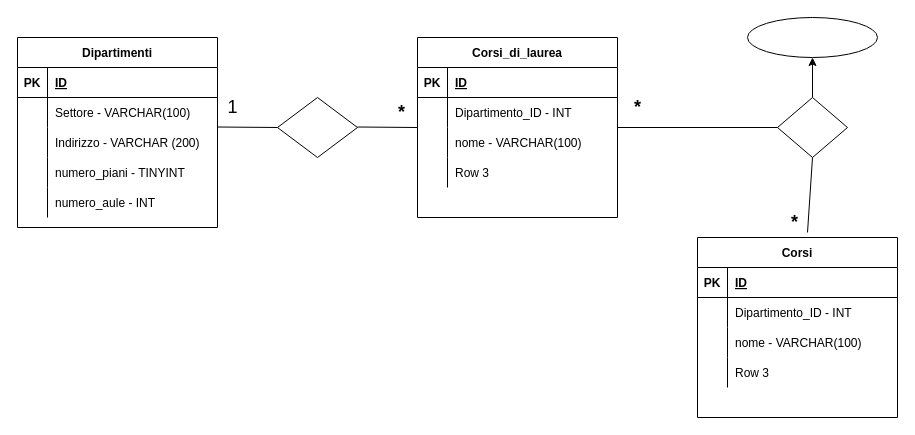
Some shapes in this 915 by 435 pixel diagram are drawn without their labels. Here are the shapes that lost their labels. From the top down, the centre of each, then its label:
At pixel 812 37: "numero_corsi".
At pixel 317 127: "possiede".
